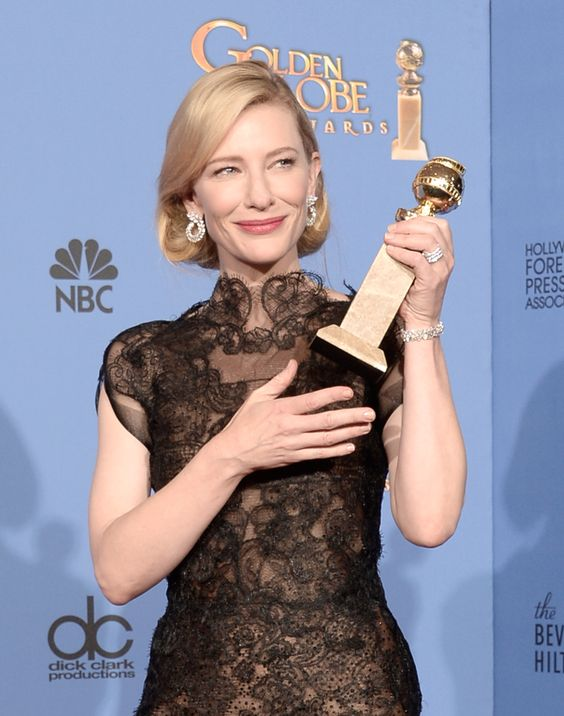hand: (225, 366, 361, 463)
